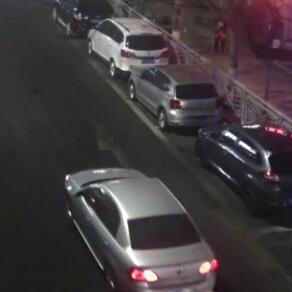car: (62, 166, 219, 289), (194, 118, 289, 217), (126, 63, 226, 131), (84, 12, 177, 80), (49, 0, 119, 45)
